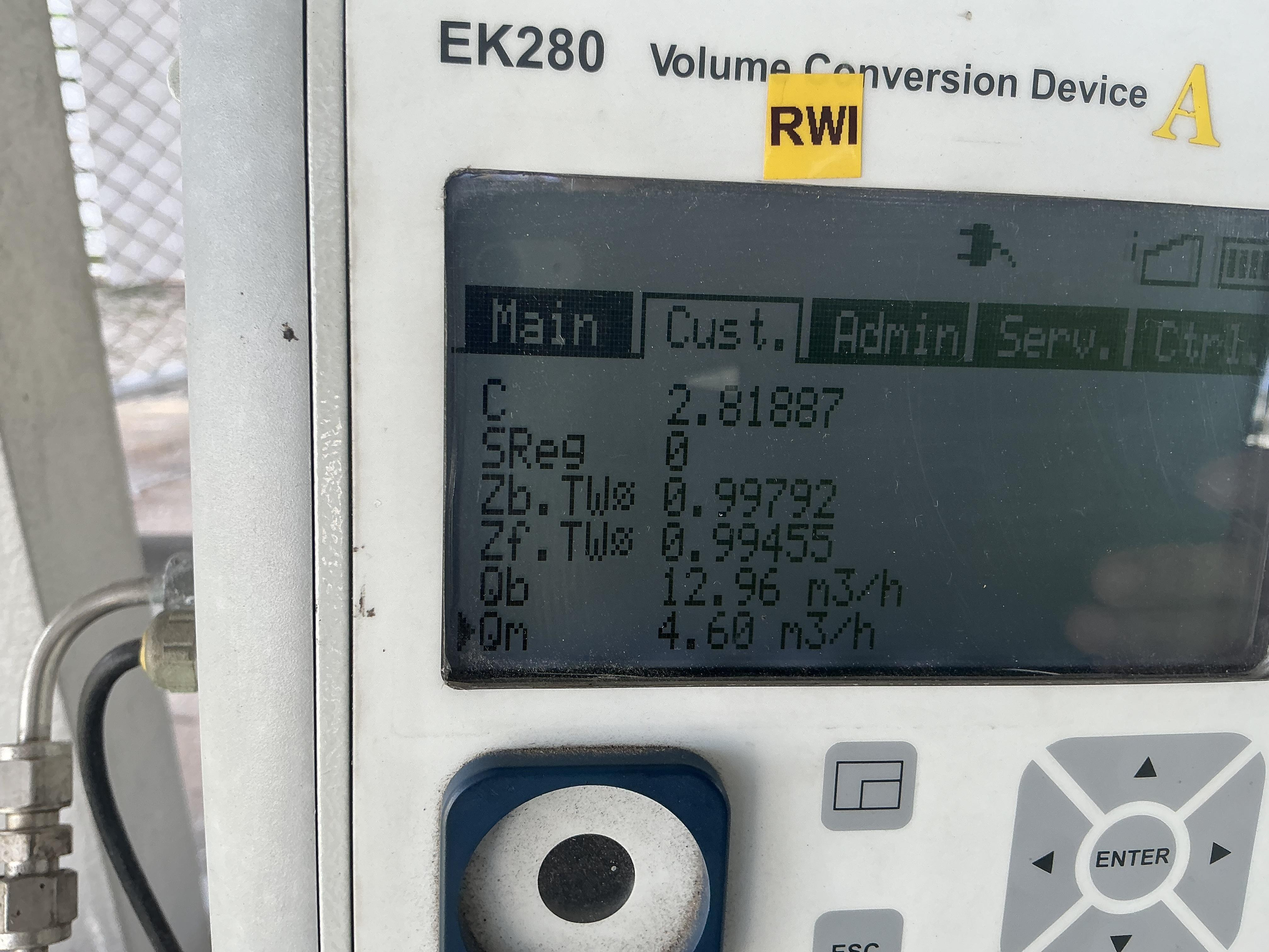digital_screen: (448, 175, 1269, 688)
